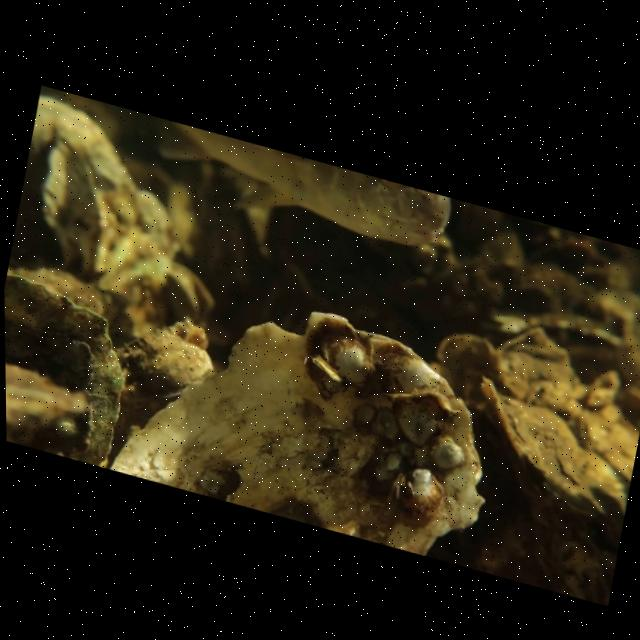Oyster-Closed: (474, 370, 627, 542)
Oyster-Indeterminate: (108, 309, 487, 555), (5, 267, 133, 467), (34, 130, 110, 280)
